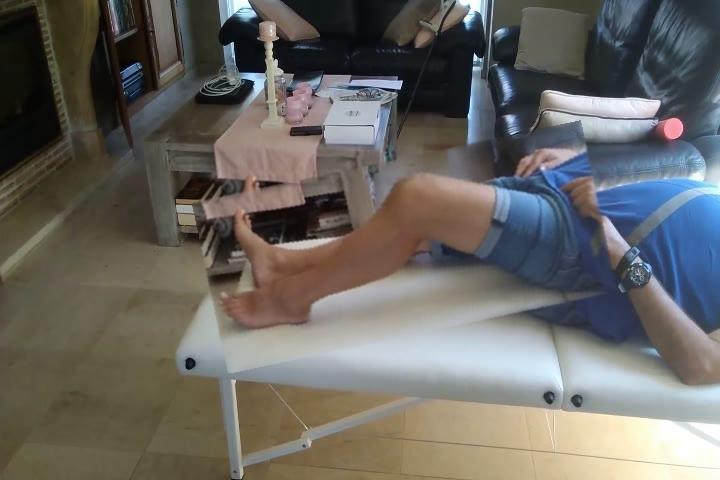lower_body: (200, 140, 612, 355)
